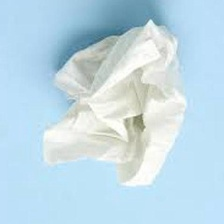tissue: (36, 13, 194, 194)
